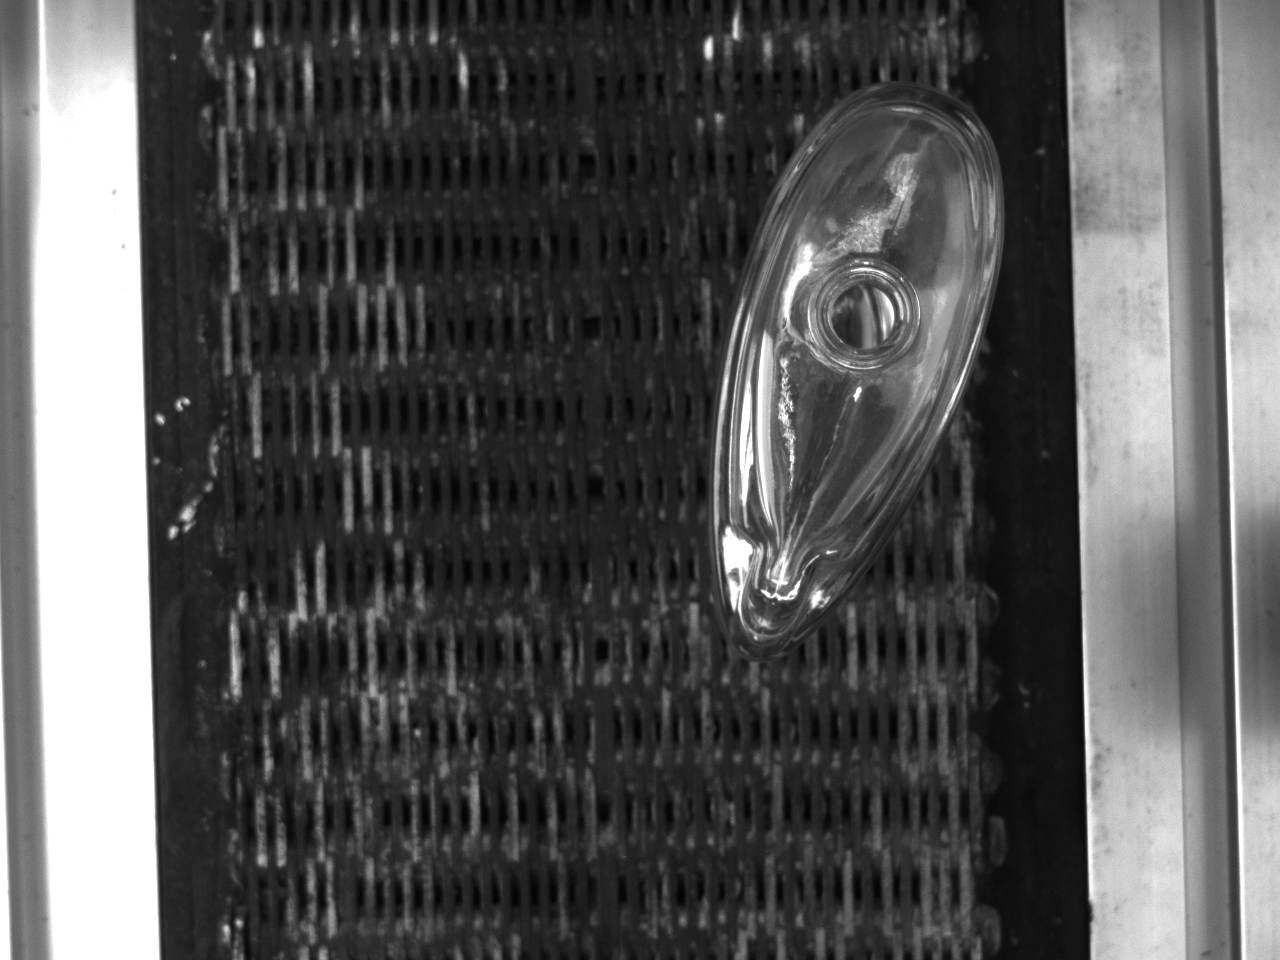bottleneck: (807, 259, 920, 369)
